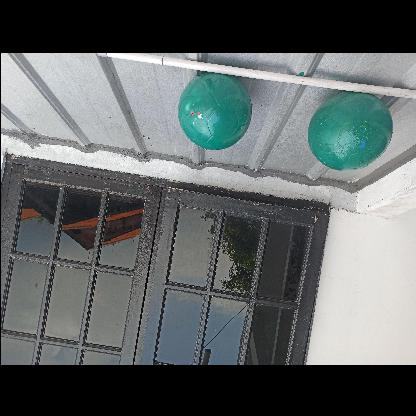green_ball: (306, 89, 392, 175), (172, 72, 248, 150)
